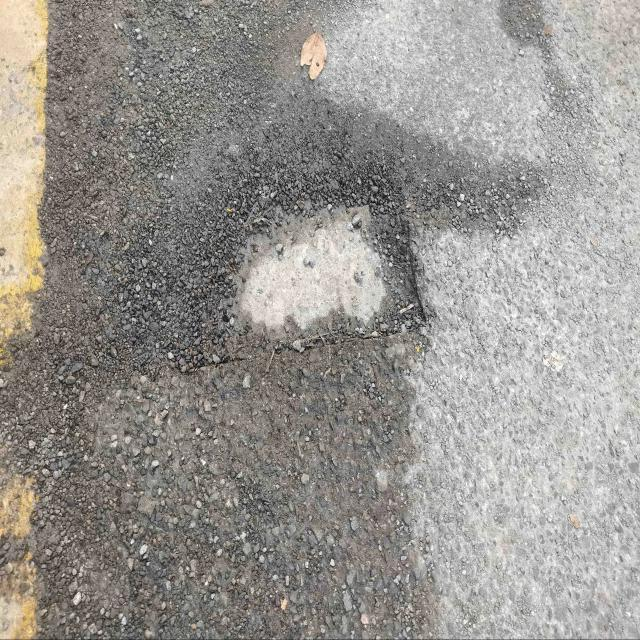pothole: (185, 179, 436, 377)
